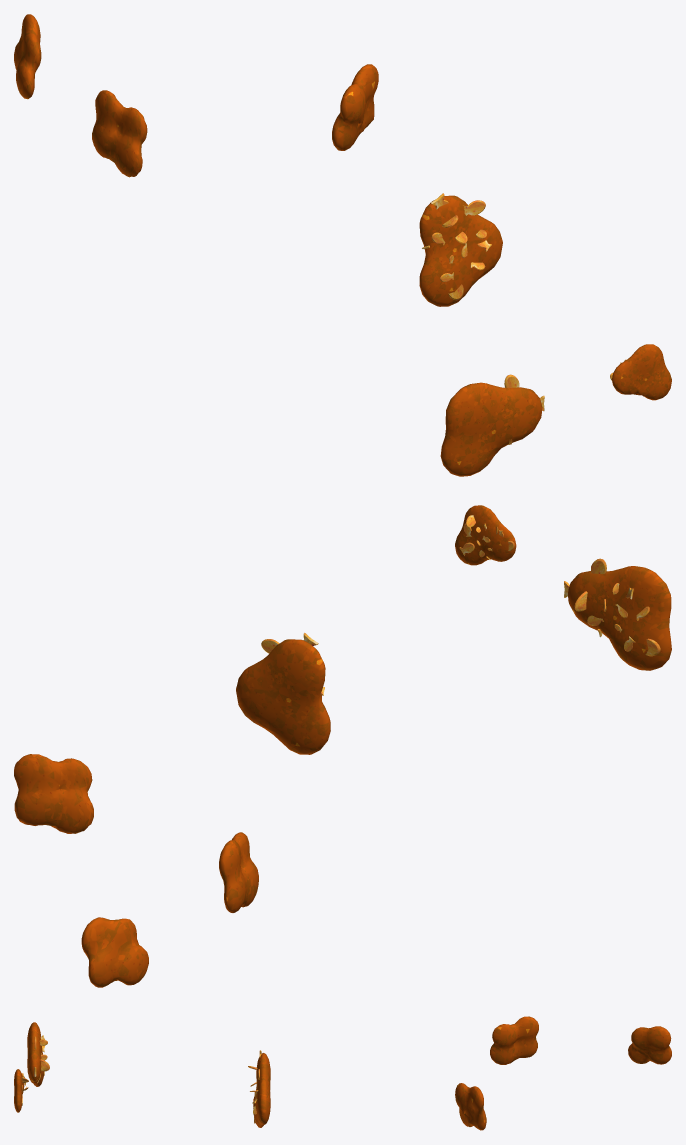
Rendered from gf_int_fish_1.glb.
3 renders of one model, top to bottom at view 1: azimuth 30°, elevation 25°; view 2: azimuth 150°, elevation 25°; view 3: azimuth 270°, elevation 25°, orthographic. The views are drawn at different scales.
Visible parts, largest first — view 1: Mball.010, Mball.005, Mball.007, Mball.009, fish in wall 1.001; view 2: Mball.010, Mball.007, Mball.005, Mball.009, fish in wall 1; view 3: Mball.010, Mball.007, Mball.005, Mball.009, fish in wall 1.
Boxes of the visible parts, left/top/right/bottom form: Mball.010: left=14, top=14, right=378, bottom=177; Mball.005: left=440, top=382, right=542, bottom=476; Mball.007: left=419, top=195, right=502, bottom=306; Mball.009: left=612, top=344, right=671, bottom=400; fish in wall 1.001: left=422, top=193, right=491, bottom=300; Mball.010: left=14, top=754, right=258, bottom=987; Mball.007: left=236, top=639, right=330, bottom=754; Mball.005: left=568, top=566, right=671, bottom=670; Mball.009: left=455, top=505, right=516, bottom=565; fish in wall 1: left=564, top=558, right=660, bottom=656; Mball.010: left=455, top=1016, right=671, bottom=1130; Mball.007: left=253, top=1053, right=270, bottom=1127; Mball.005: left=27, top=1022, right=44, bottom=1086; Mball.009: left=14, top=1069, right=24, bottom=1112; fish in wall 1: left=34, top=1035, right=49, bottom=1083.
Size of the model in its own units: 18.86 by 8.1 by 59.63.
Materials: 2 (2 with a texture image).
